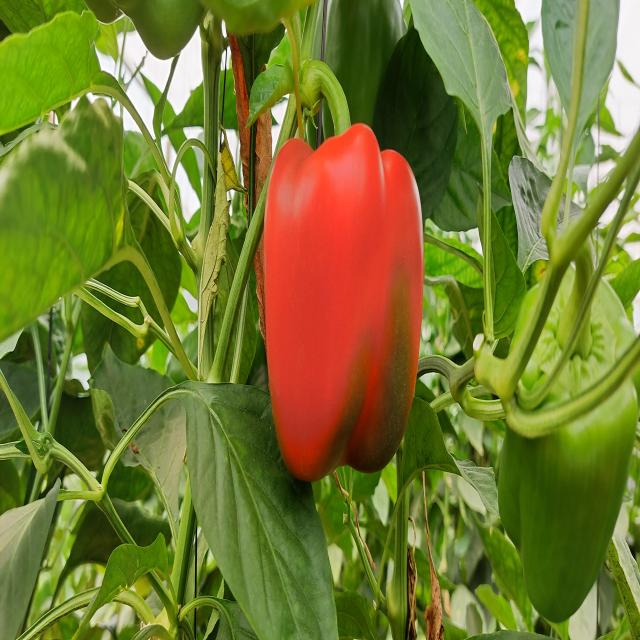Red-Ready-to-Harvest: (258, 132, 429, 490)
